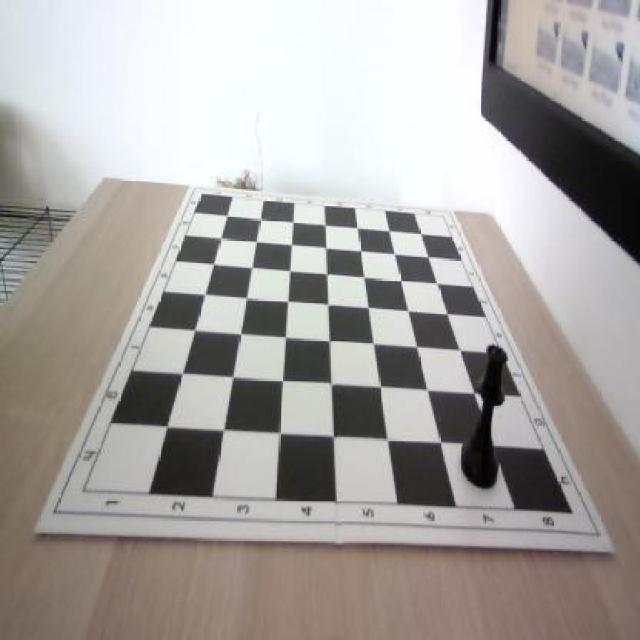black-pawn: (458, 342, 512, 490)
